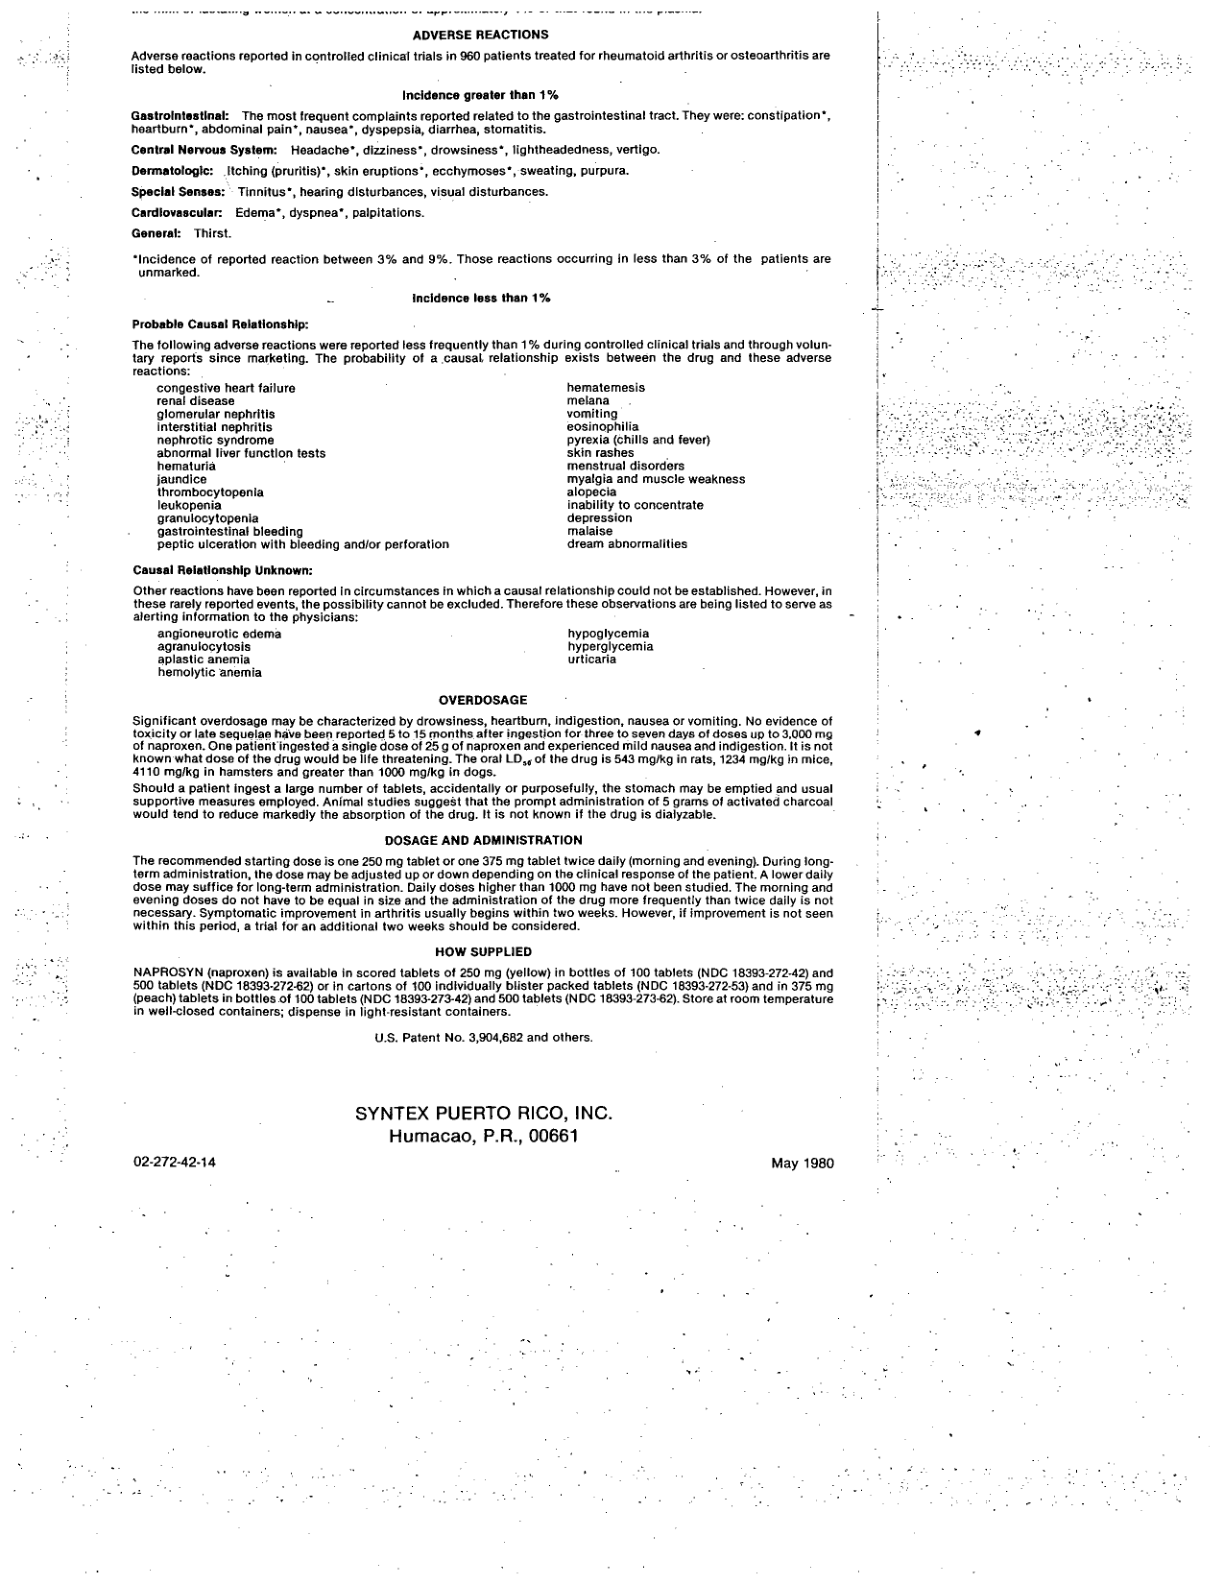nolines: (149, 381, 747, 554), (154, 626, 656, 678)
